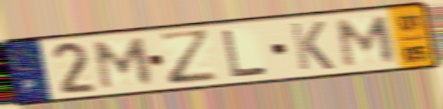2: (51, 41, 99, 96)
K: (287, 19, 338, 72)
L: (220, 28, 271, 78)
M: (335, 14, 399, 70), (93, 36, 156, 92)
Z: (155, 28, 222, 88)
